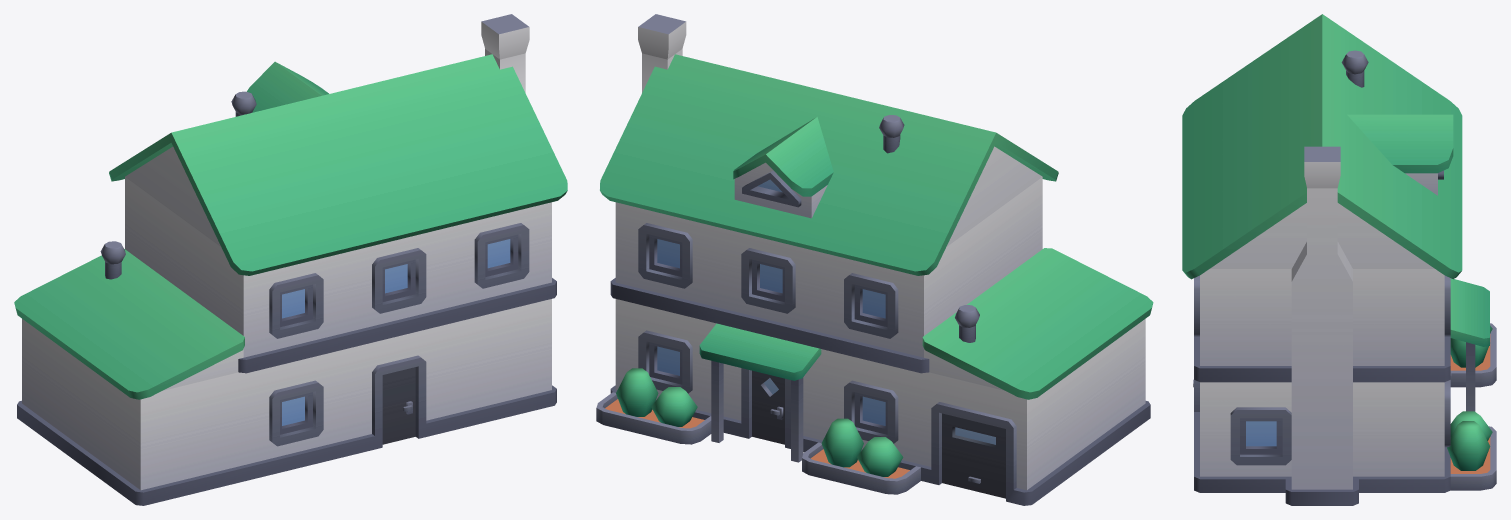
Rendered from suburban-building-type-d.glb.
The picture shows the model from 3 angles, left to right: view 1: azimuth 30°, elevation 25°; view 2: azimuth 150°, elevation 25°; view 3: azimuth 270°, elevation 25°; orthographic projection. The views are drawn at different scales.
Parts seen in each view (by area): view 1: building-type-d; view 2: building-type-d; view 3: building-type-d.
Boxes of the visible parts, x1,y1,x2,y2 form: building-type-d: (14,14,567,505); building-type-d: (596,14,1153,505); building-type-d: (1182,14,1496,505).
Bounding box in the file's own units: 1.76 × 1.24 × 1.03.
Materials: 1 (1 with a texture image).
